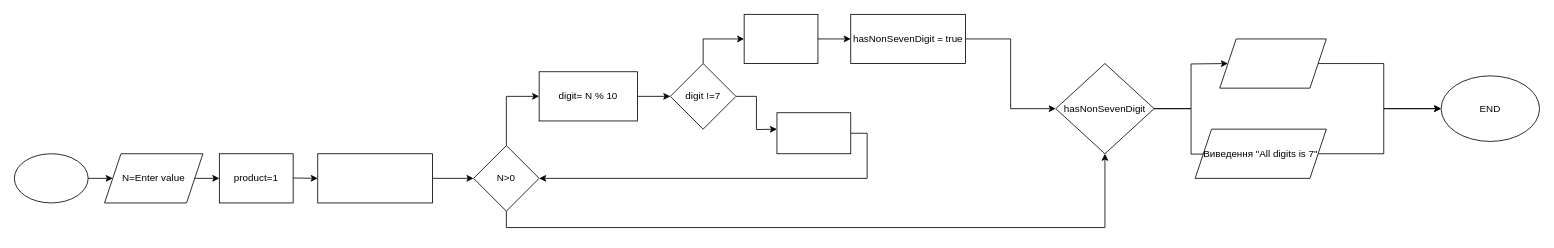
Image size: 1554x248. Some labels were removed from this diagram. The centre of each missing label's shape, as x and y in pixels:
"hasNonSevenDigit = false" goes at pixel 375 178.
"N /=10" goes at pixel 813 133.
"product *= digit" goes at pixel 780 39.
"Start" goes at pixel 51 178.
"Виведення product" goes at pixel 1272 63.
